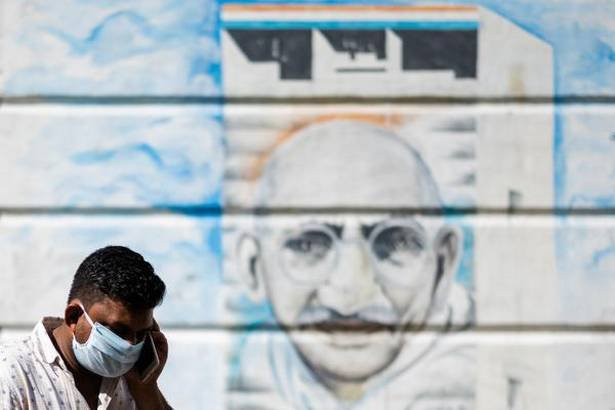mask: (53, 242, 168, 380)
